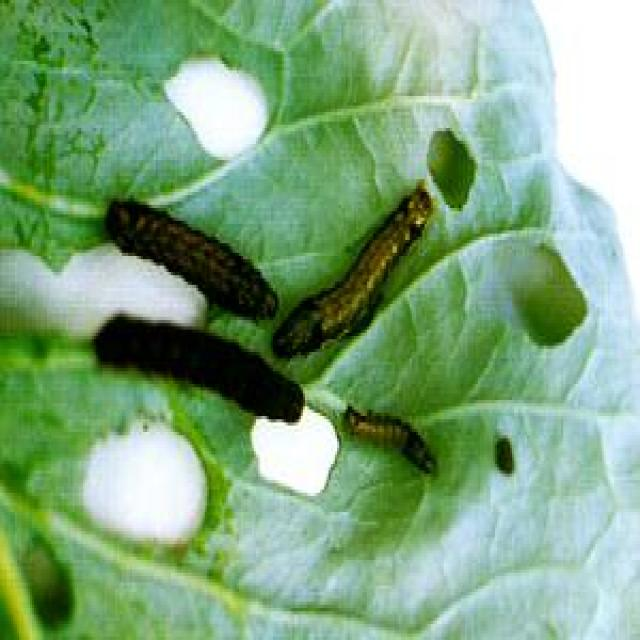armyworm: (84, 168, 458, 485), (103, 191, 313, 431)
